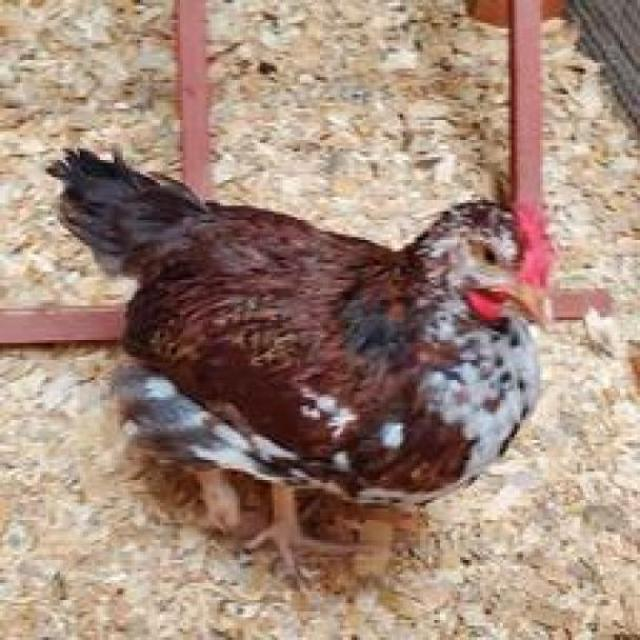Chicken: (8, 130, 624, 582)
